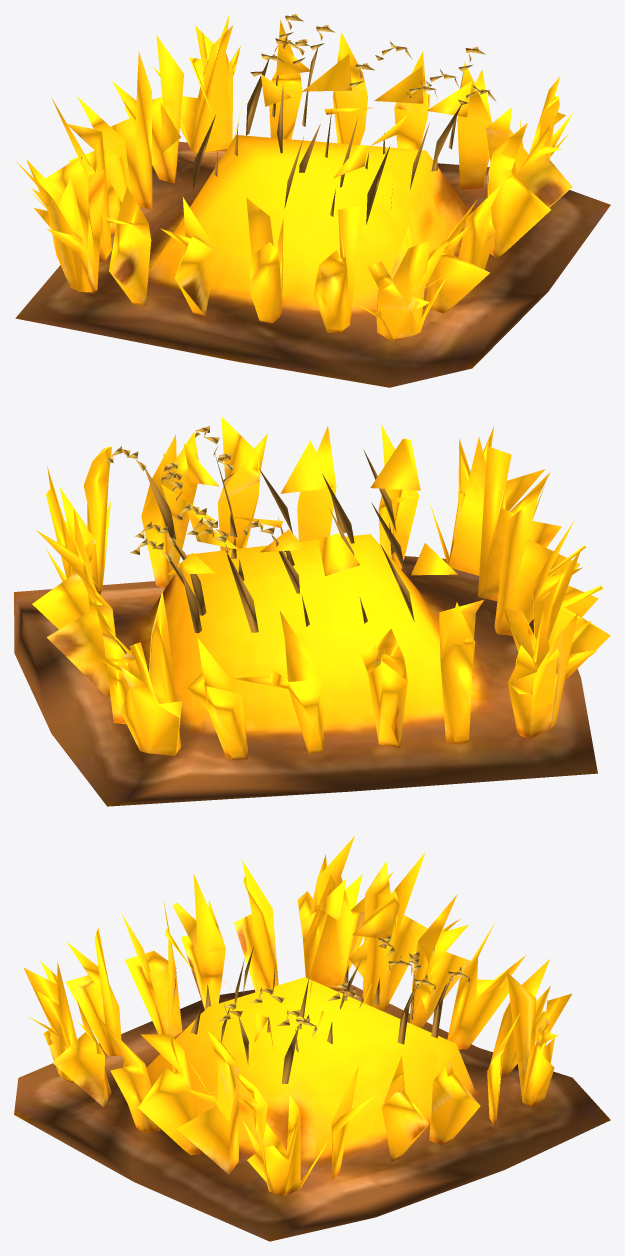
The picture shows the model from 3 angles, top to bottom: view 1: azimuth 30°, elevation 25°; view 2: azimuth 150°, elevation 25°; view 3: azimuth 270°, elevation 25°; orthographic projection. The views are drawn at different scales.
Visible parts, largest first — view 1: tripo_node_18430081-c652-455a-967a-1061a99238d2, 외형 세부; view 2: tripo_node_18430081-c652-455a-967a-1061a99238d2, 외형 세부; view 3: tripo_node_18430081-c652-455a-967a-1061a99238d2, 외형 세부.
Boxes of the visible parts, left/top/right/bottom form: tripo_node_18430081-c652-455a-967a-1061a99238d2: left=15, top=15, right=610, bottom=387; 외형 세부: left=193, top=14, right=496, bottom=224; tripo_node_18430081-c652-455a-967a-1061a99238d2: left=14, top=416, right=610, bottom=806; 외형 세부: left=104, top=426, right=414, bottom=633; tripo_node_18430081-c652-455a-967a-1061a99238d2: left=14, top=836, right=610, bottom=1241; 외형 세부: left=172, top=934, right=470, bottom=1083.
Size of the model in its own units: 2.65 by 0.8646 by 2.51.
Materials: 2 (1 with a texture image).
